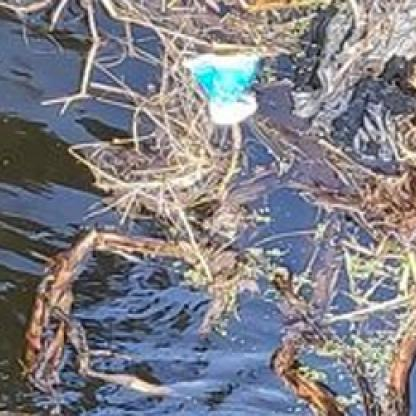Trash: (178, 46, 268, 130)
